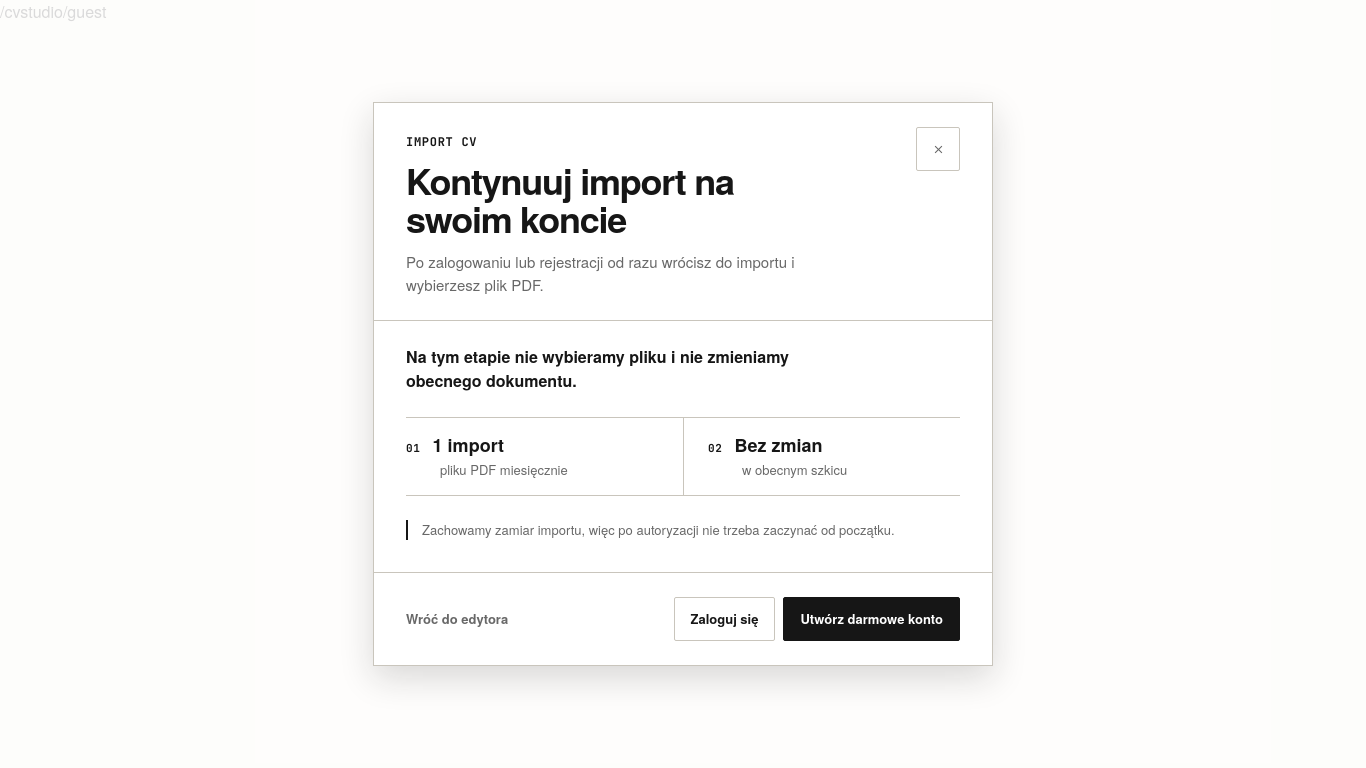
Scenario: SaveGateModal account decisions › preserves import intent for login without mounting a file input
Expected: the dialog "Kontynuuj import na swoim koncie" shows "1 import", top-left (432, 432), bottom-right (504, 458)
Expected: the dialog "Kontynuuj import na swoim koncie" shows "Bez zmian", top-left (734, 432), bottom-right (822, 458)
Click the button "Zaloguj się" at (724, 619), box top-left (674, 597), bottom-right (775, 641)
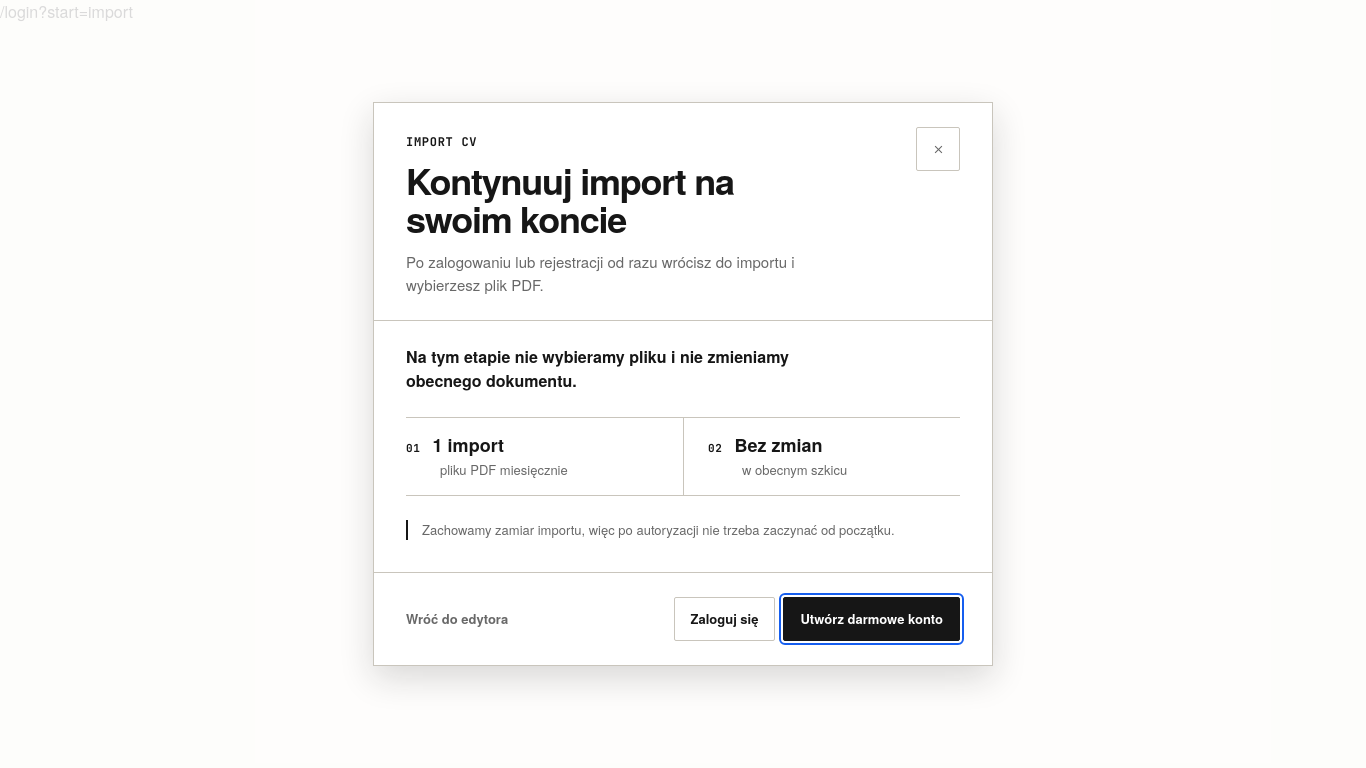
Result: the text named "Aktualna trasa" reads "/login?start=import" at top-left (0, 0), bottom-right (133, 23)
